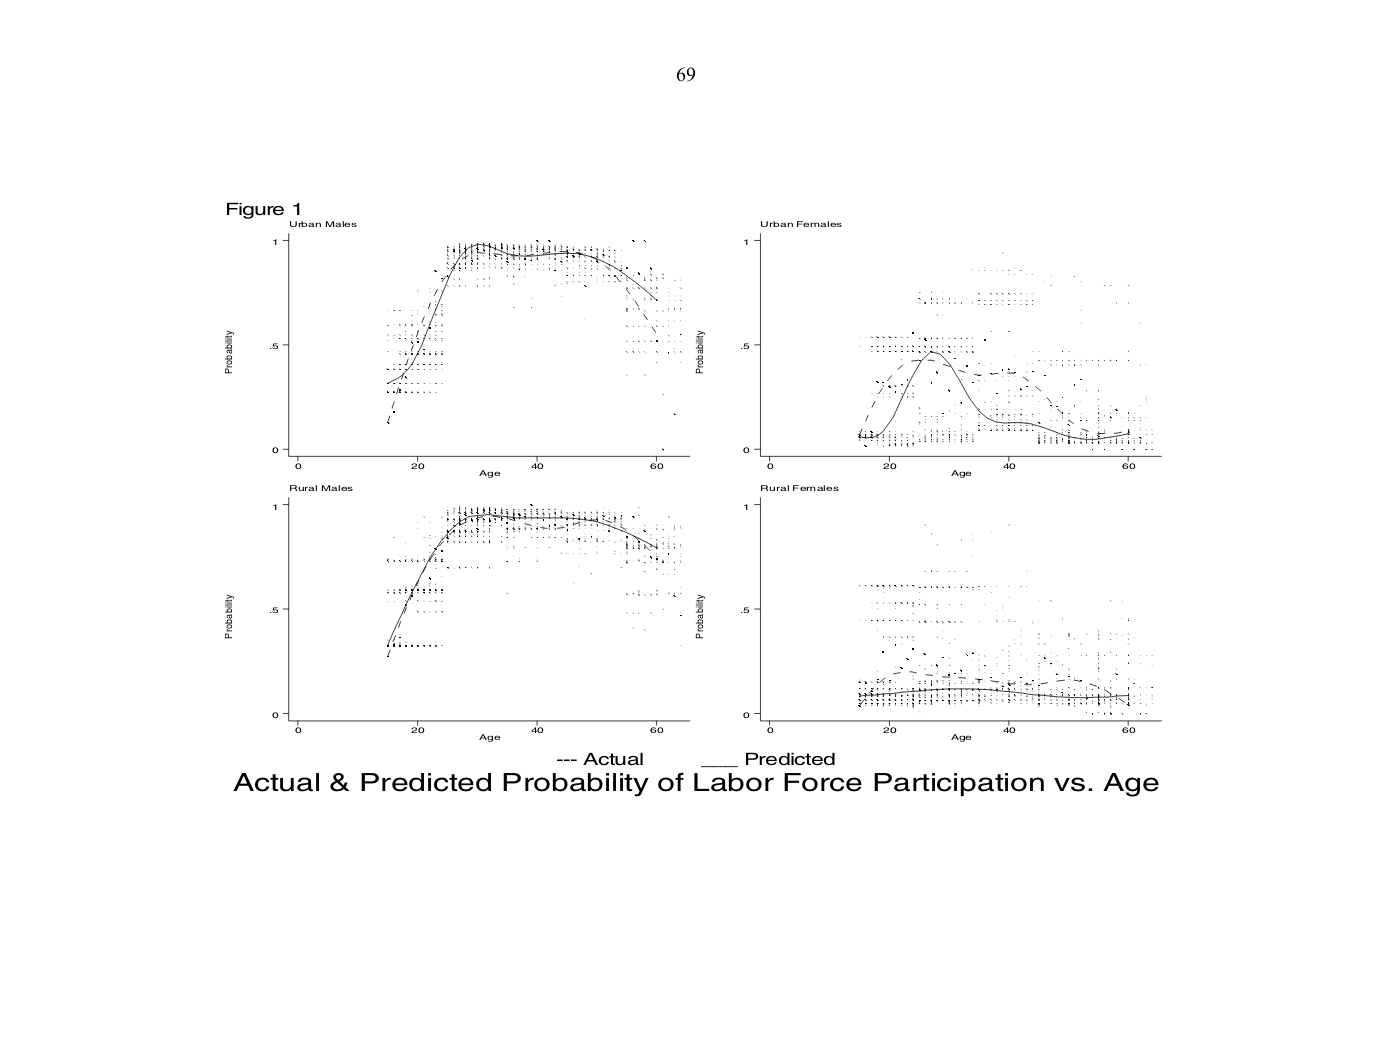figure: (742, 221, 1161, 476), (270, 221, 690, 473), (741, 497, 1158, 741), (270, 497, 689, 739)
